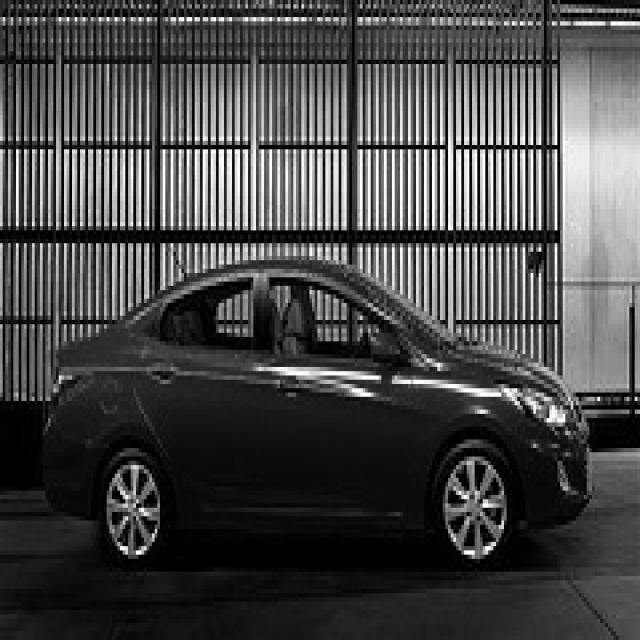car: (40, 256, 592, 567)
